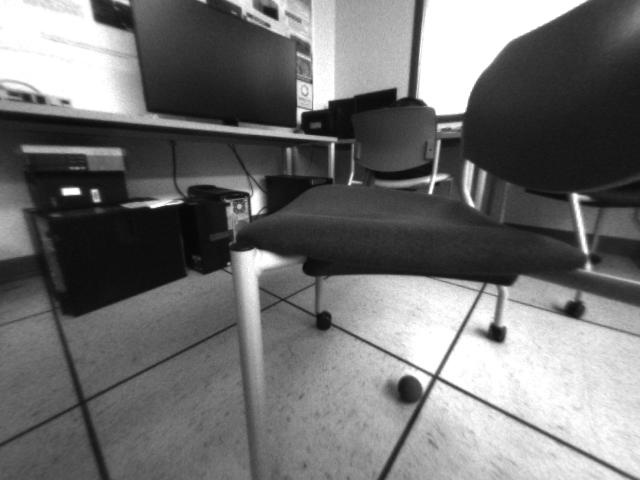dogtoy: (392, 368, 429, 406)
